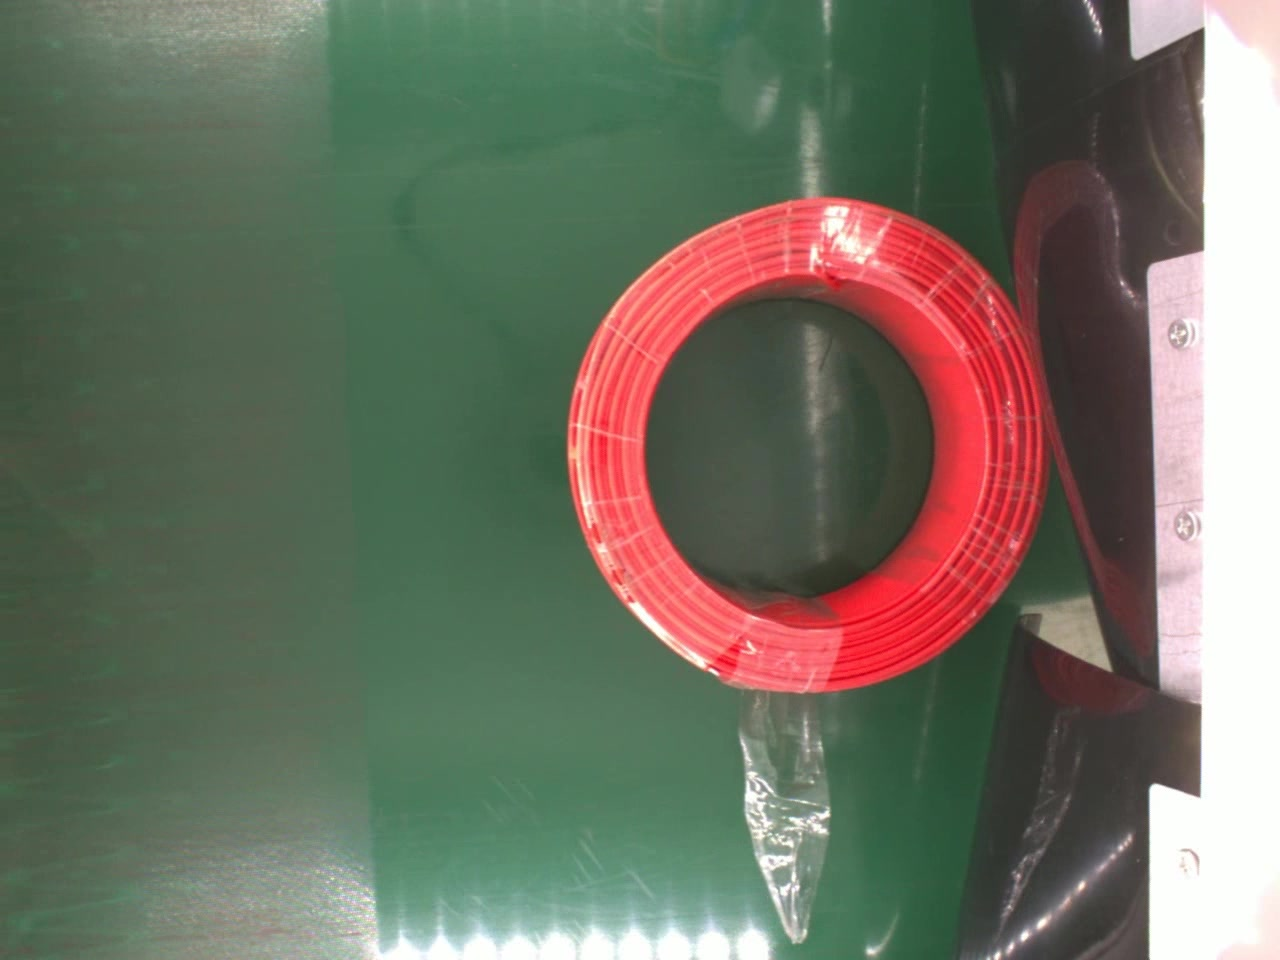red: (564, 194, 1053, 693)
